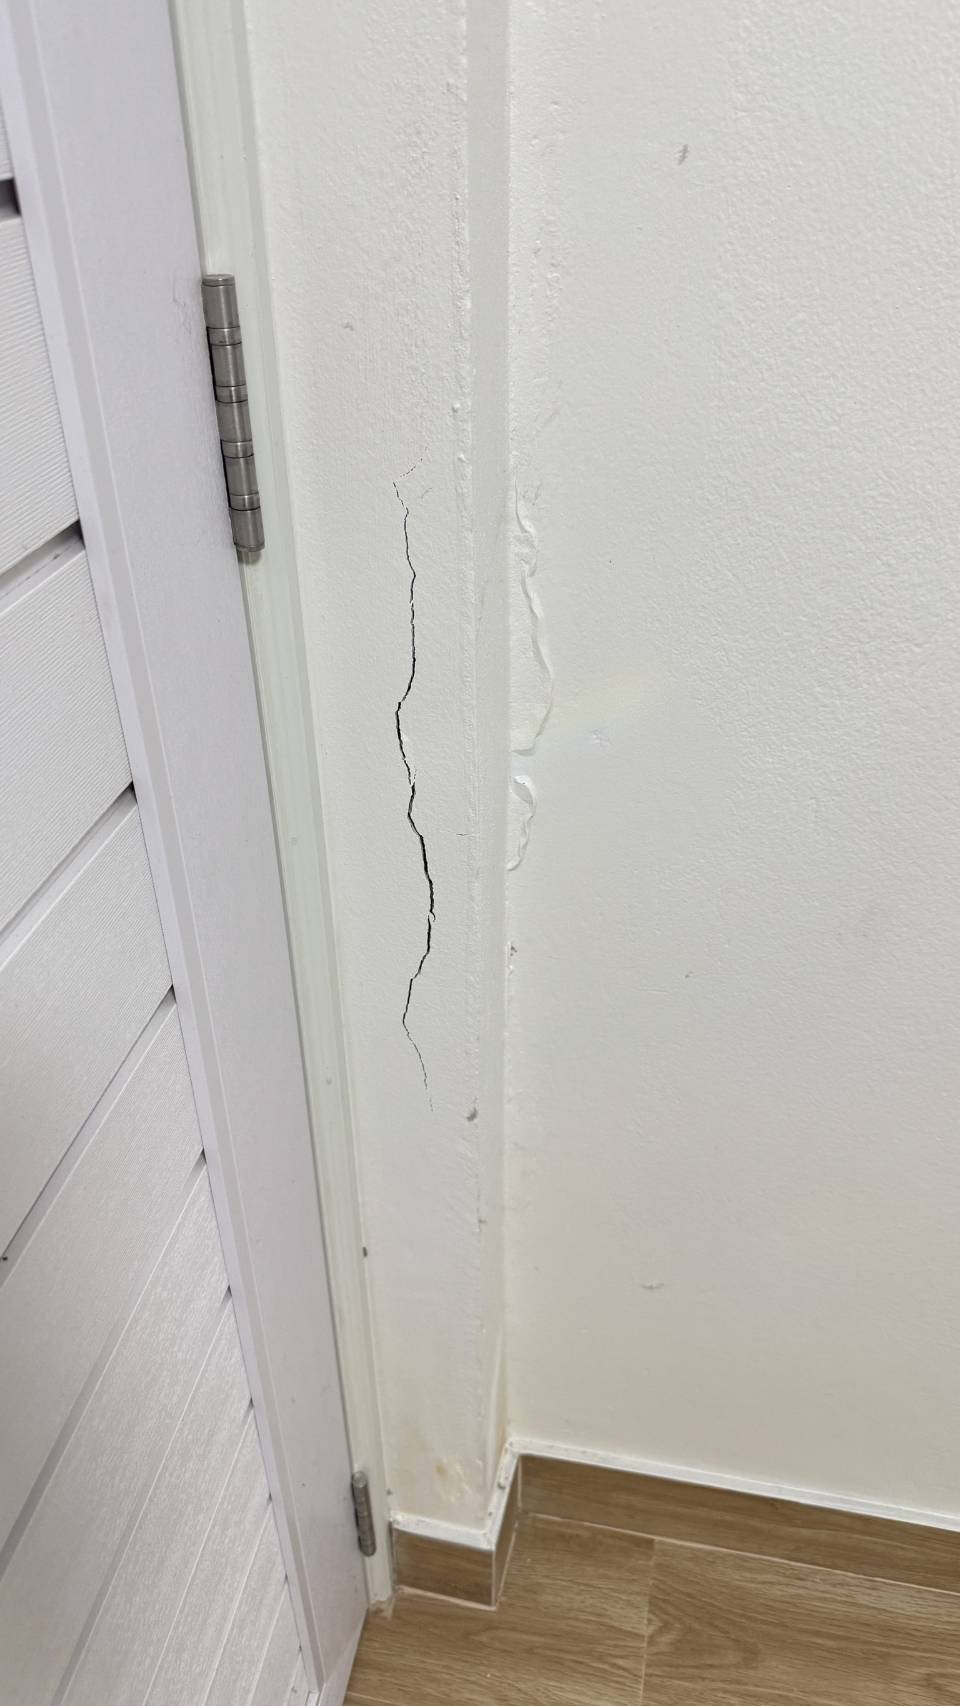Medium: (343, 458, 519, 1190)
